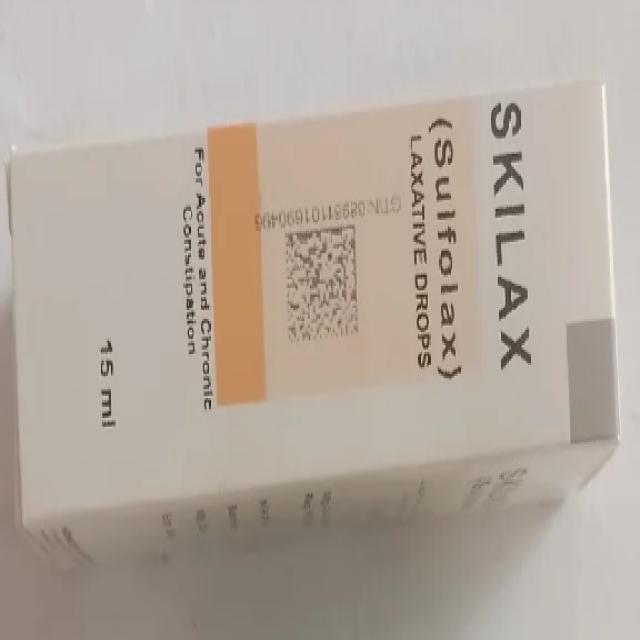drug-name: (485, 100, 534, 377)
